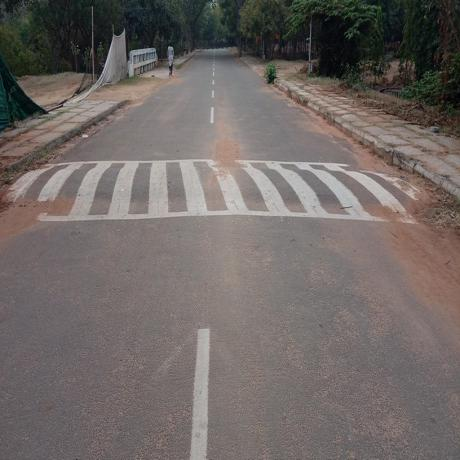Speed Bump: (12, 159, 446, 225)
